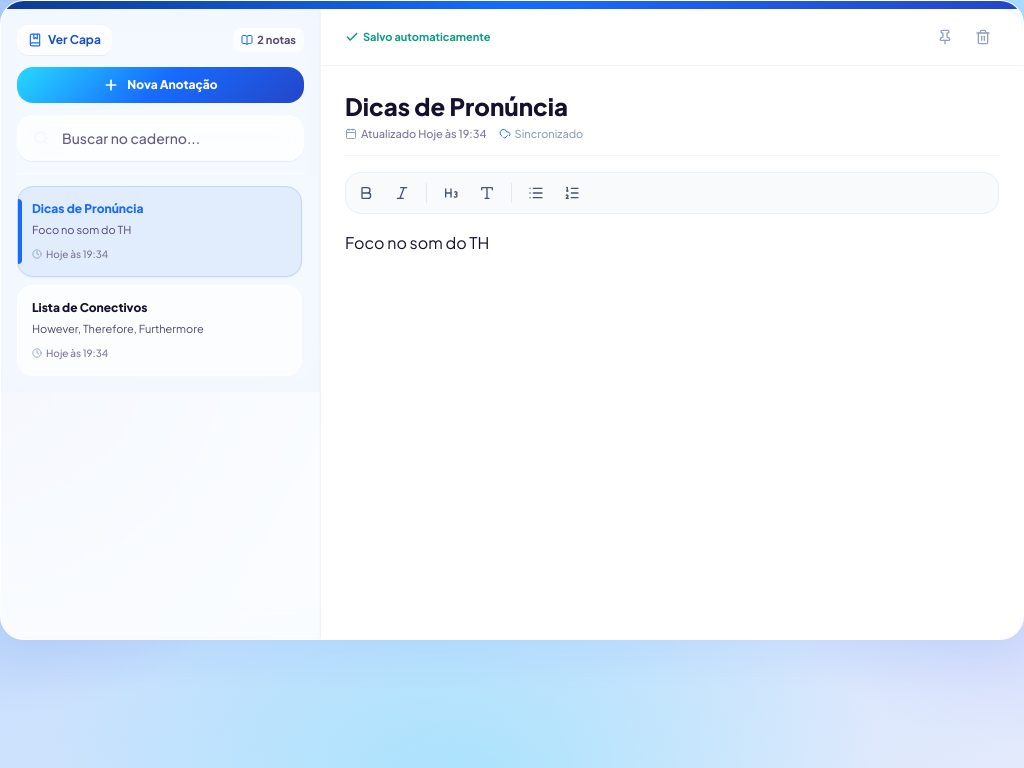
Test: Anotações (Notes) UI and Integration Tests › searches and filters notes in realtime
Expected: the heading "Dicas de Pronúncia" is shown, [32,201,144,216]
Expected: the heading "Lista de Conectivos" is shown, [32,300,148,315]
Type "Pronúncia" into the search field named "Buscar por título ou conteúdo" at (160, 138), box [17,115,304,161]
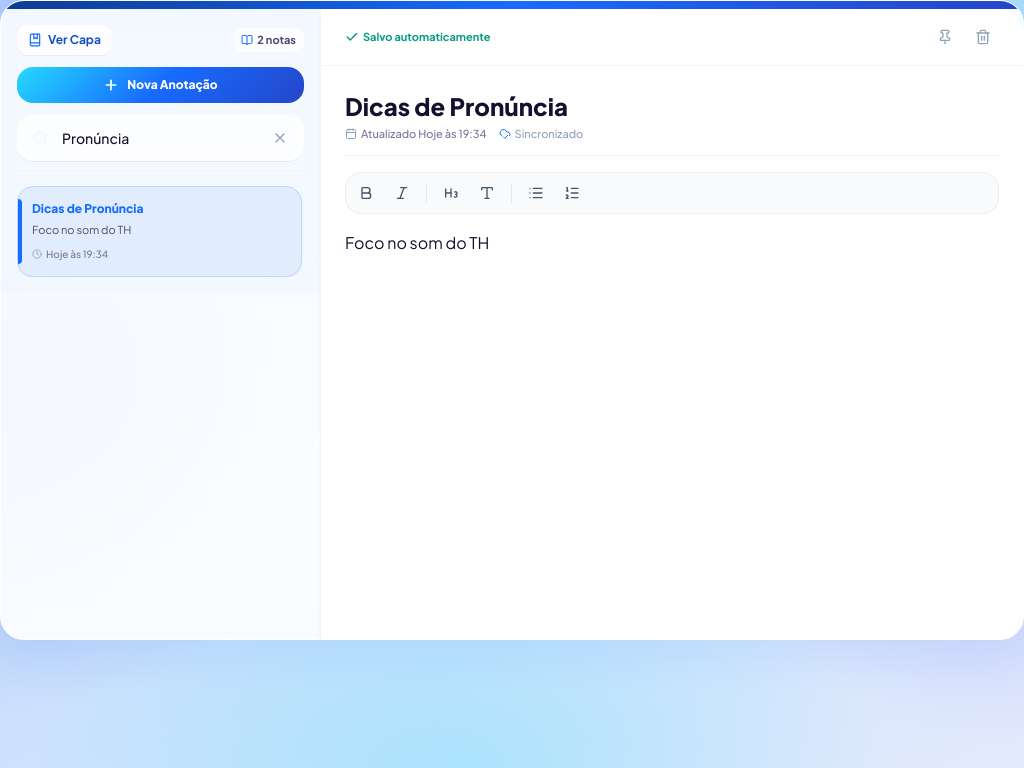
Expected: the heading "Dicas de Pronúncia" is shown, [32,201,144,216]
Result: the heading "Lista de Conectivos" is gone
// Clear search
Clear the search field named "Buscar por título ou conteúdo" at (160, 138), box [17,115,304,161]
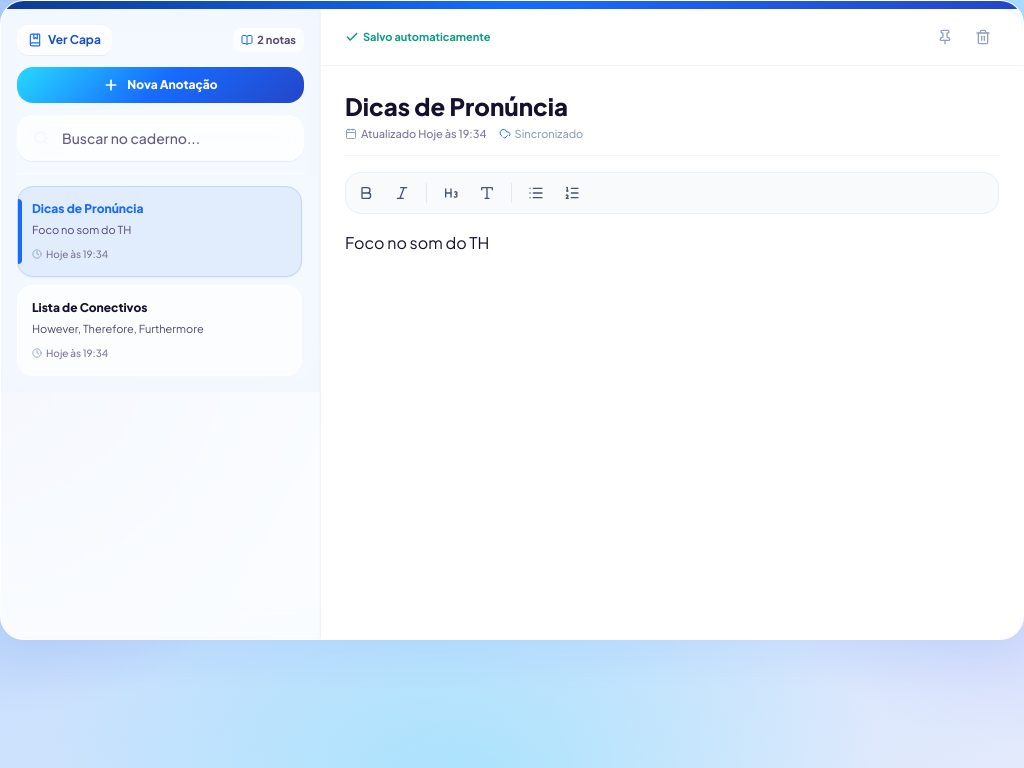
Expected: the heading "Dicas de Pronúncia" is shown, [32,201,144,216]
Result: the heading "Lista de Conectivos" is shown at [32,300,148,315]
